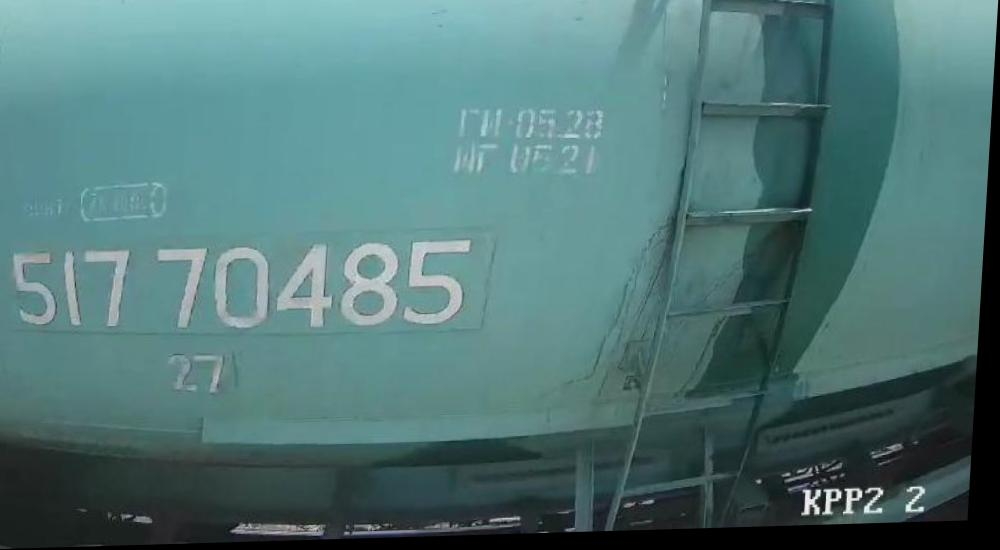Wagon-number: (3, 236, 489, 345)
